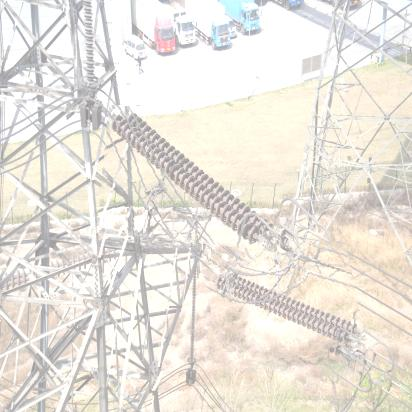insulator: (101, 110, 289, 248), (208, 247, 363, 364)
